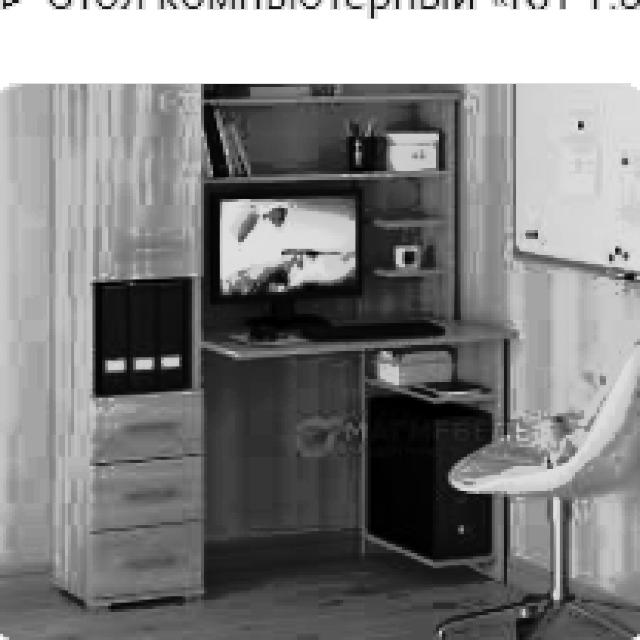book: (430, 329, 637, 637)
table: (207, 319, 524, 575)
